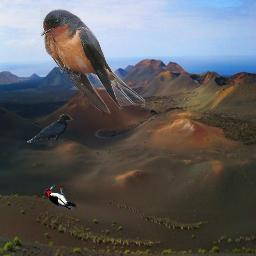Crow: (27, 114, 74, 147)
Swallow: (40, 8, 145, 114)
Woodpecker: (41, 184, 78, 212)
